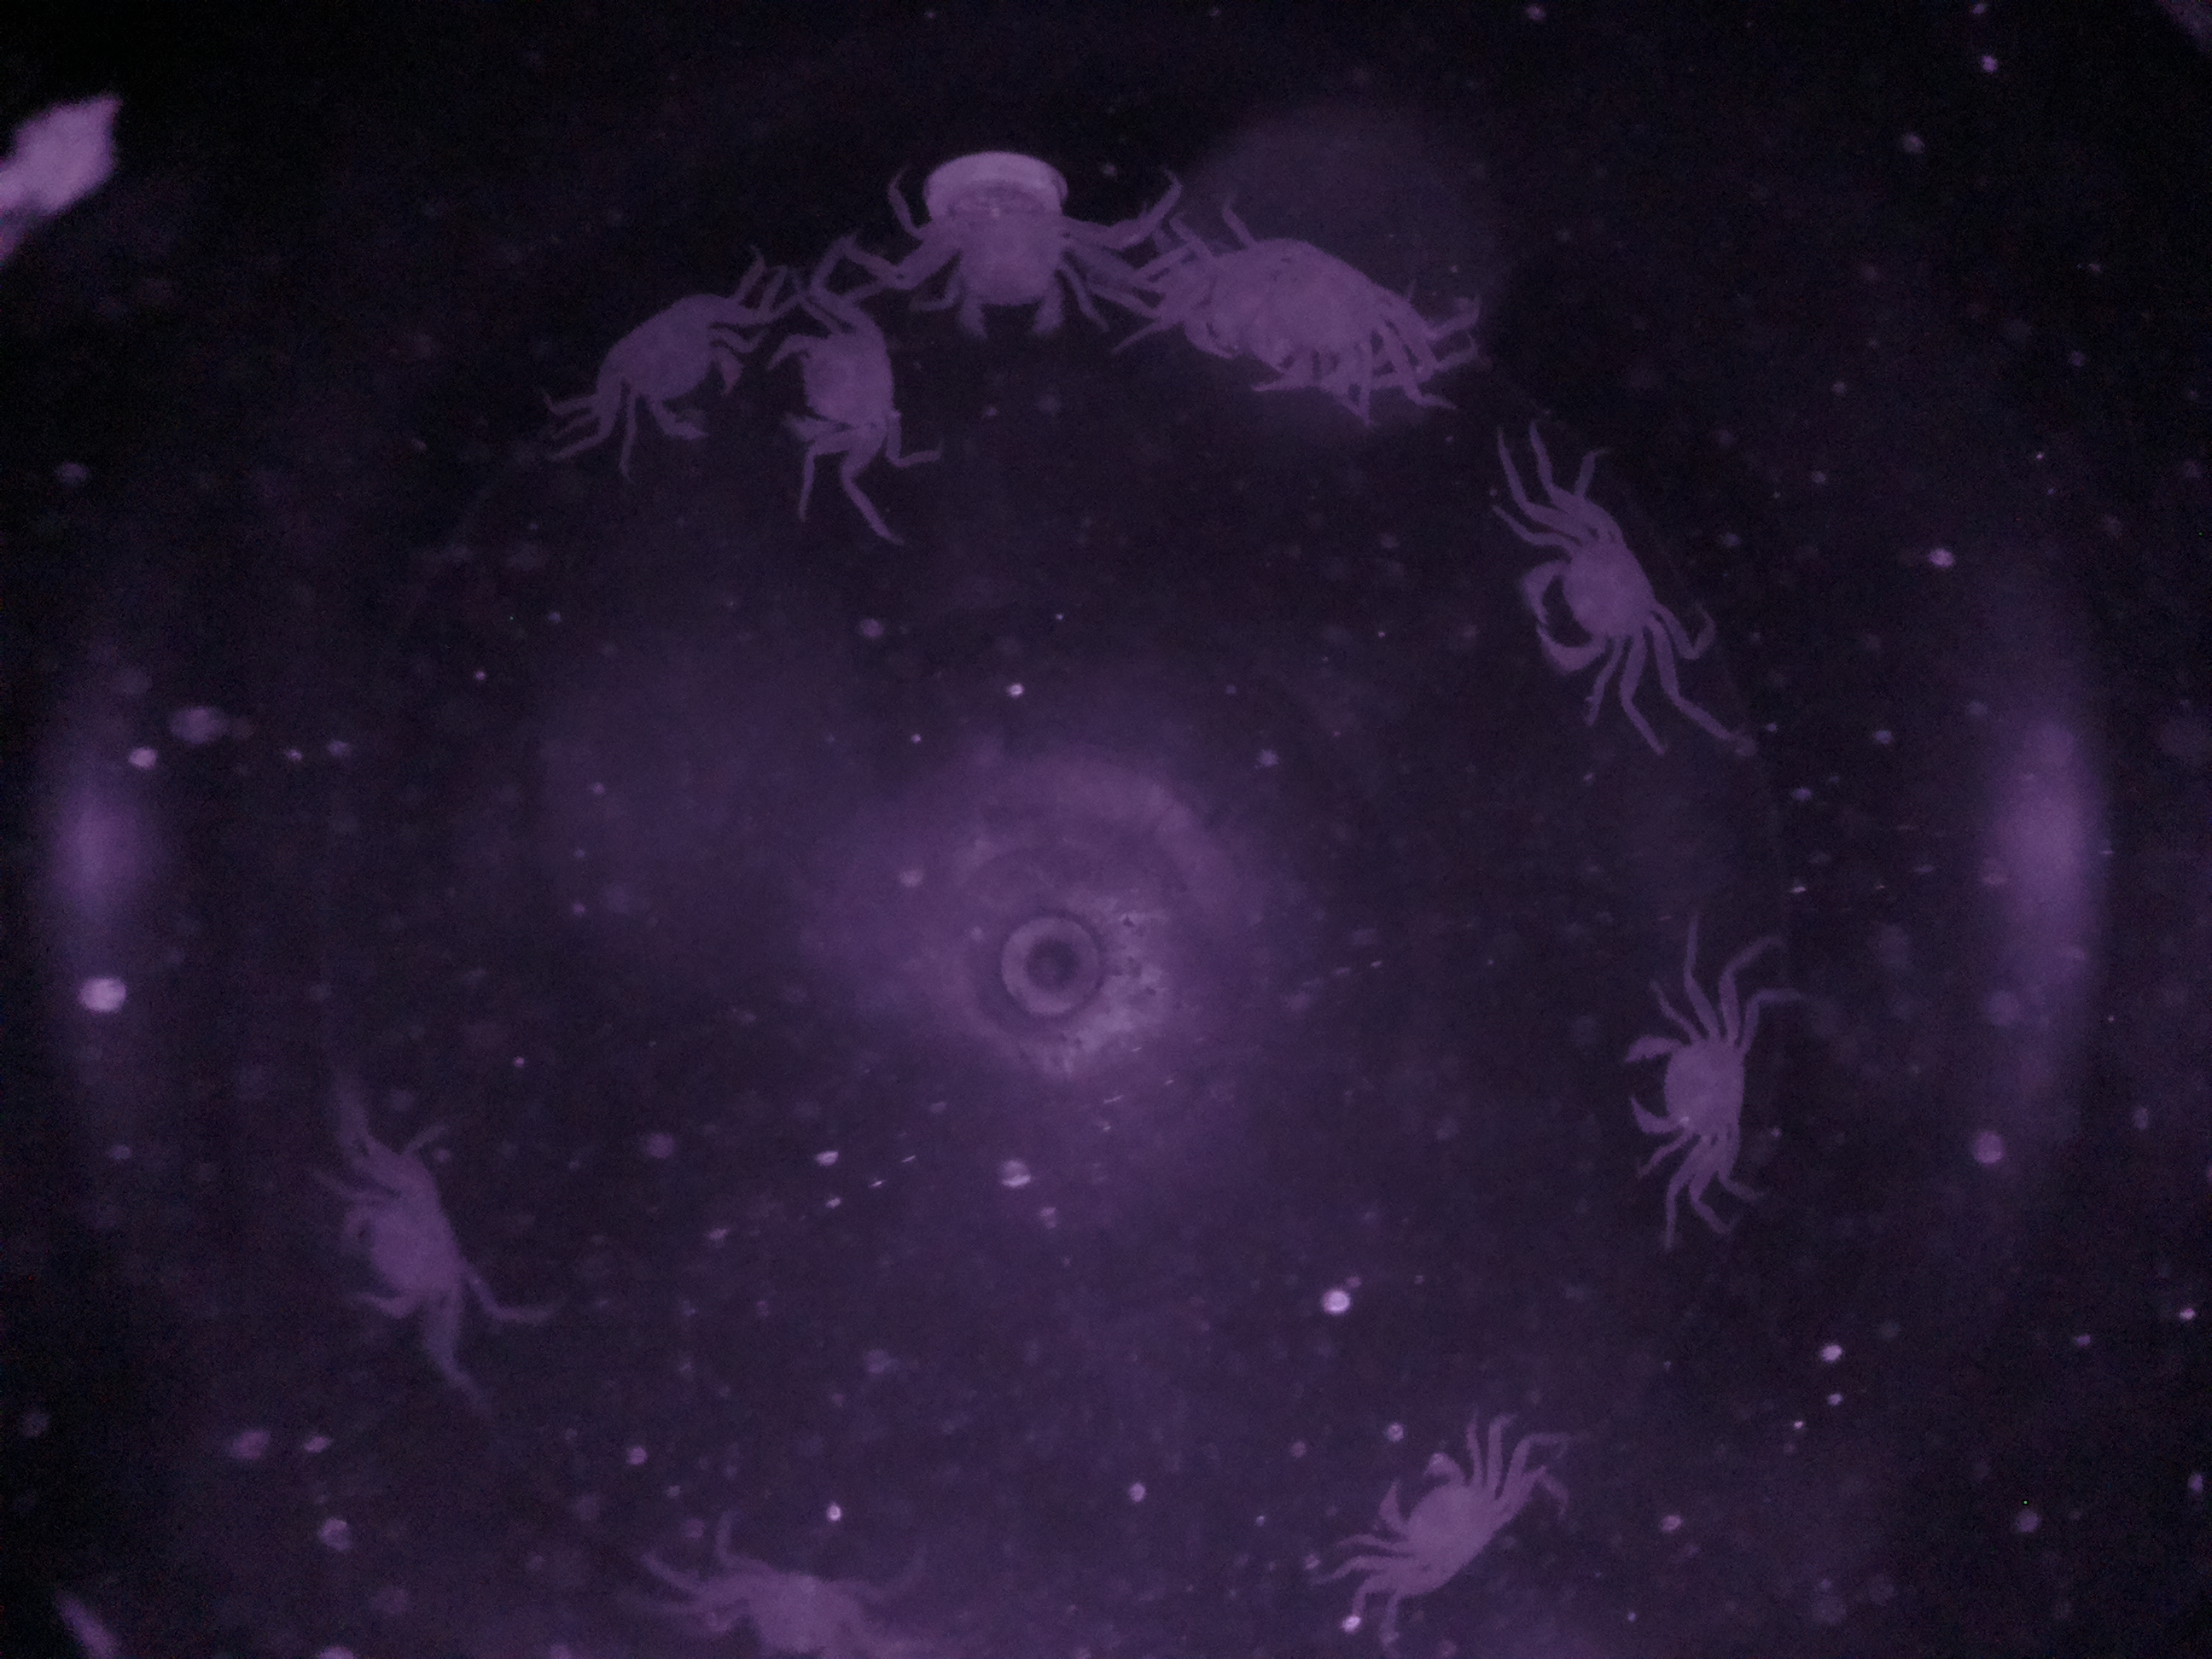Crab: (1505, 472, 1695, 725), (1595, 986, 1787, 1192), (1348, 1424, 1526, 1617), (770, 281, 928, 476), (606, 274, 761, 465)
